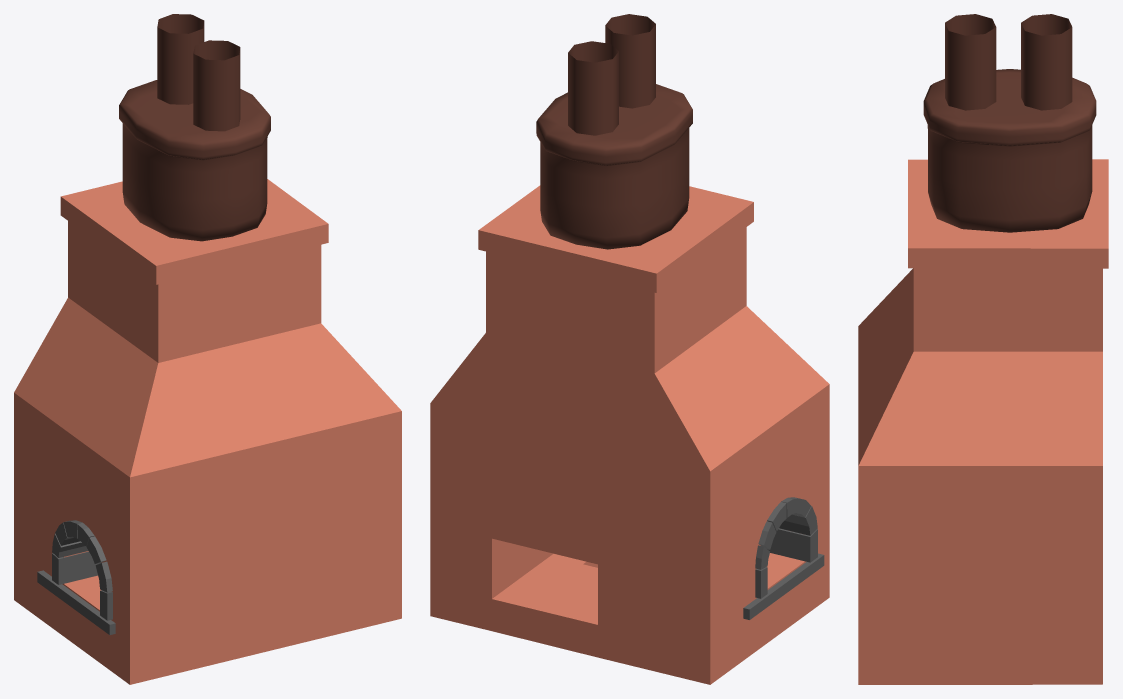
Rendered from Furnace.fbx.
The picture shows the model from 3 angles, left to right: view 1: azimuth 30°, elevation 25°; view 2: azimuth 150°, elevation 25°; view 3: azimuth 270°, elevation 25°; orthographic projection. The views are drawn at different scales.
Visible parts, largest first — view 1: tubes.001, tubes, FurnanceBricks; view 2: tubes.001, tubes, FurnanceBricks; view 3: tubes.001, tubes.
Boxes of the visible parts, left/top/right/bottom form: tubes.001: left=14, top=179, right=401, bottom=684; tubes: left=119, top=14, right=270, bottom=241; FurnanceBricks: left=37, top=520, right=115, bottom=634; tubes.001: left=430, top=185, right=829, bottom=684; tubes: left=536, top=14, right=692, bottom=249; FurnanceBricks: left=743, top=497, right=824, bottom=619; tubes.001: left=858, top=159, right=1108, bottom=684; tubes: left=923, top=14, right=1096, bottom=232.
Size of the model in its own units: 272 by 523 by 200.
